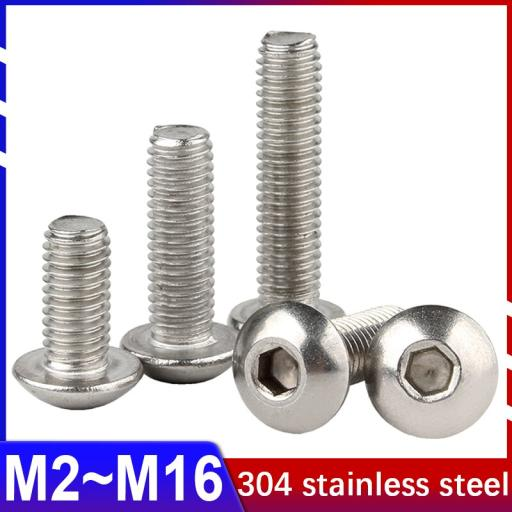Hex-Allen: (367, 305, 499, 439), (232, 298, 350, 436)
